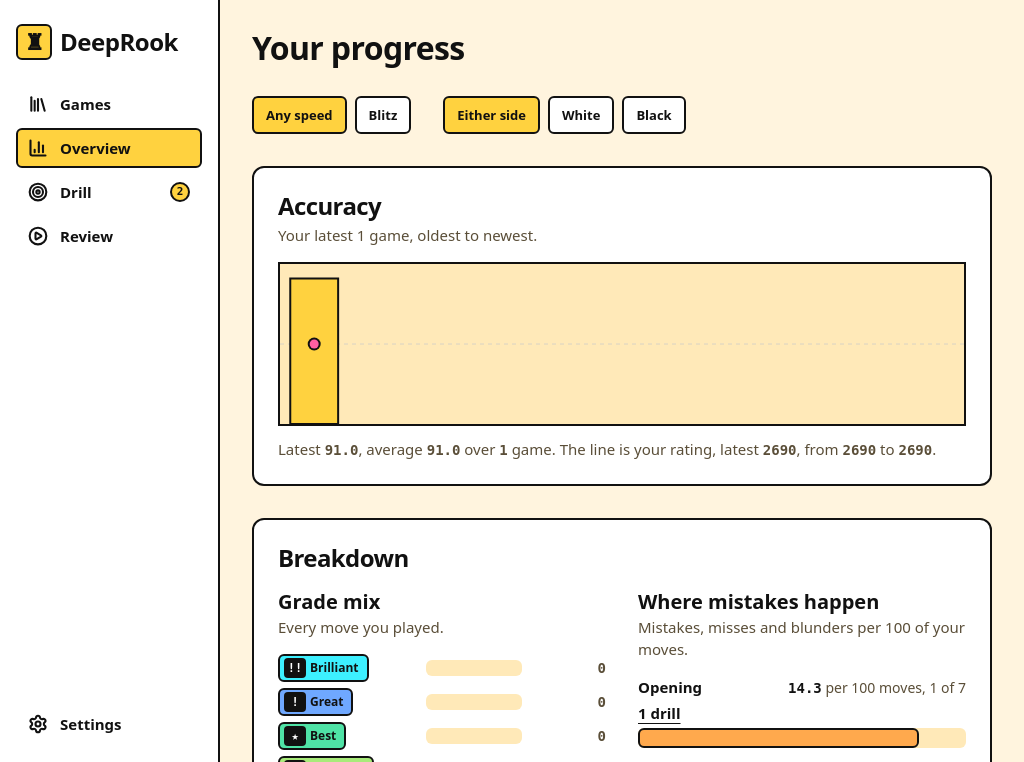
Test: the links carry the Overview side and speed, and count under them
Expected: the link with aria-label "1 drill for opening mistakes" is shown, top-left (638, 703), bottom-right (680, 723)
Step 1. Click the button "Blitz" → point(383, 115), box top-left (355, 96), bottom-right (411, 134)
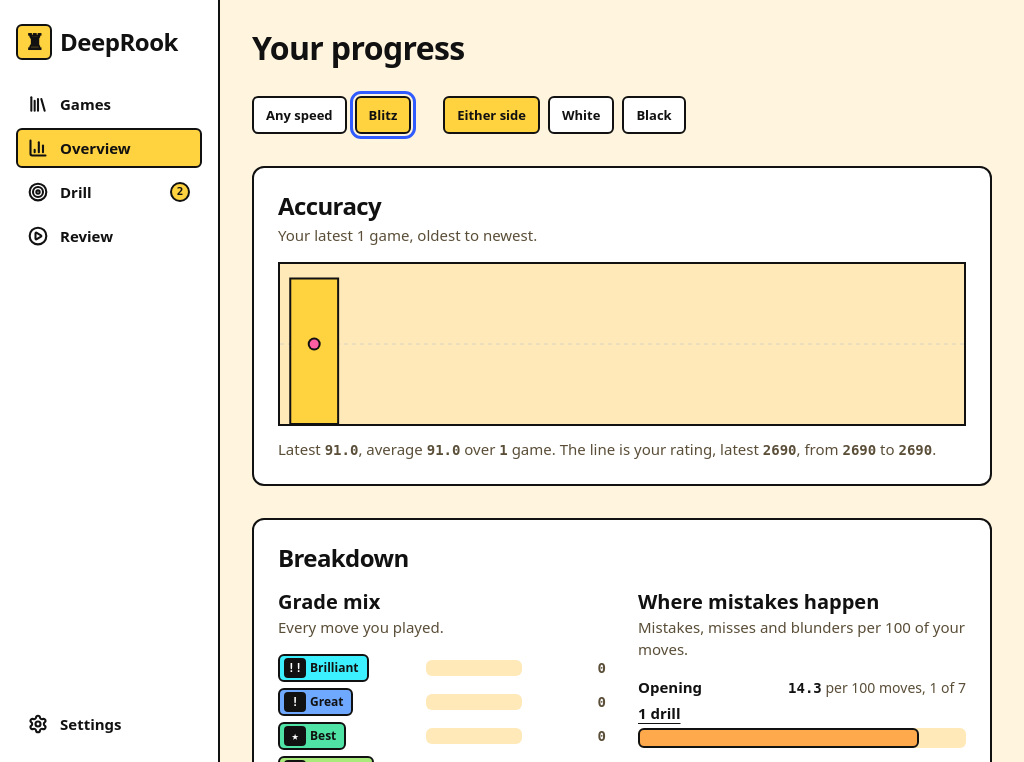
Step 2. Click the button "White" → point(581, 115), box top-left (548, 96), bottom-right (614, 134)
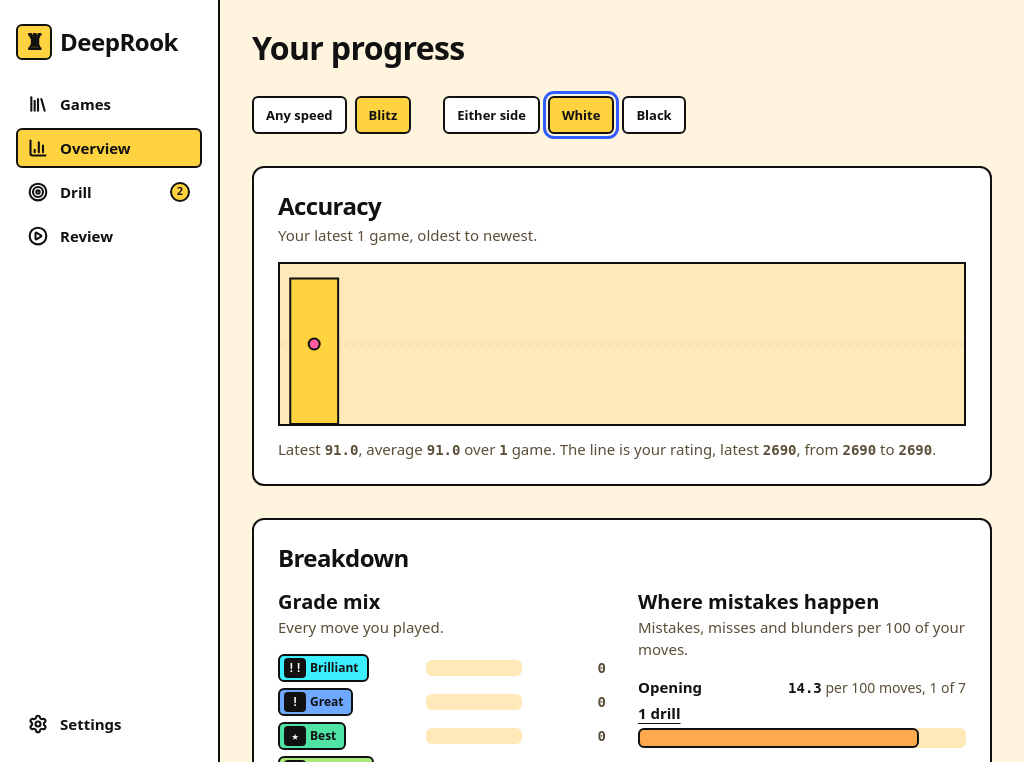
Note: Black has no drills in this game.
Step 3. Click the button "Black" → point(654, 115), box top-left (622, 96), bottom-right (686, 134)
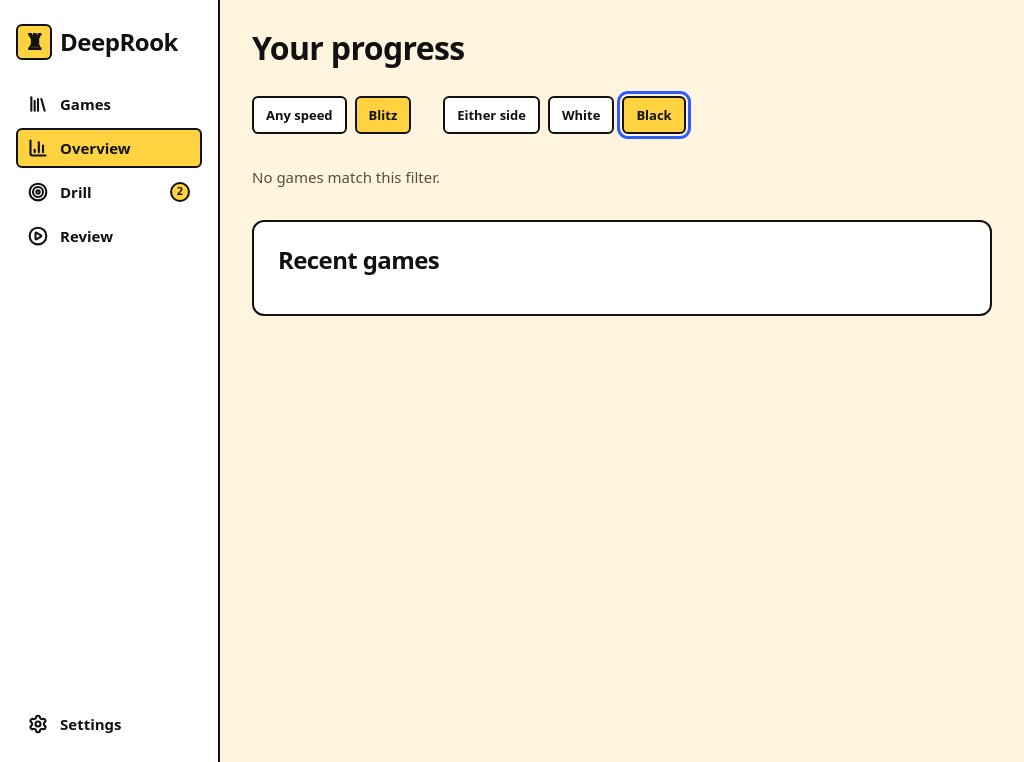
Result: the text "No games match this filter." is shown at top-left (252, 167), bottom-right (440, 187)
